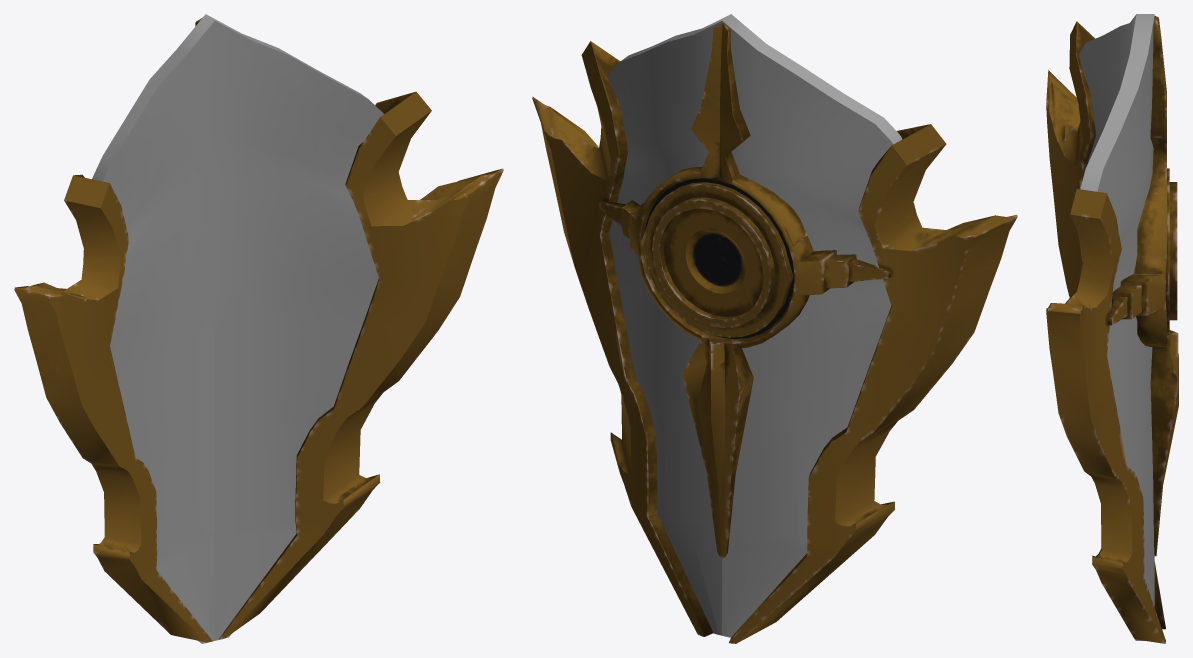
Rendered from shield_light.glb.
3 views of the same model, side by side, from view 1: azimuth 30°, elevation 25°; view 2: azimuth 150°, elevation 25°; view 3: azimuth 270°, elevation 25° (orthographic).
Visible parts, largest first — view 1: Cube.002; view 2: Cube.002; view 3: Cube.002.
Boxes of the visible parts, x1,y1,x2,y2 form: Cube.002: (14,14,503,643); Cube.002: (532,14,1017,643); Cube.002: (1046,14,1178,643).
Size of the model in its own units: 3.8 by 4.6 by 0.8913.
Materials: 2 (2 with a texture image).
